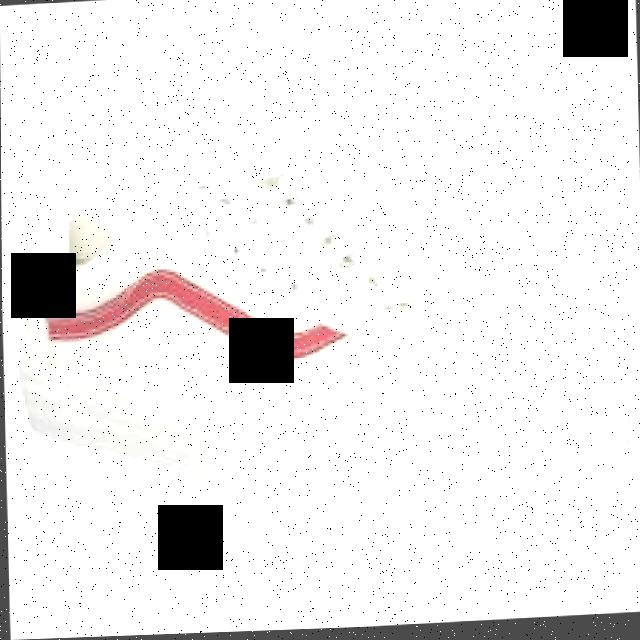shoe: (5, 126, 637, 513)
